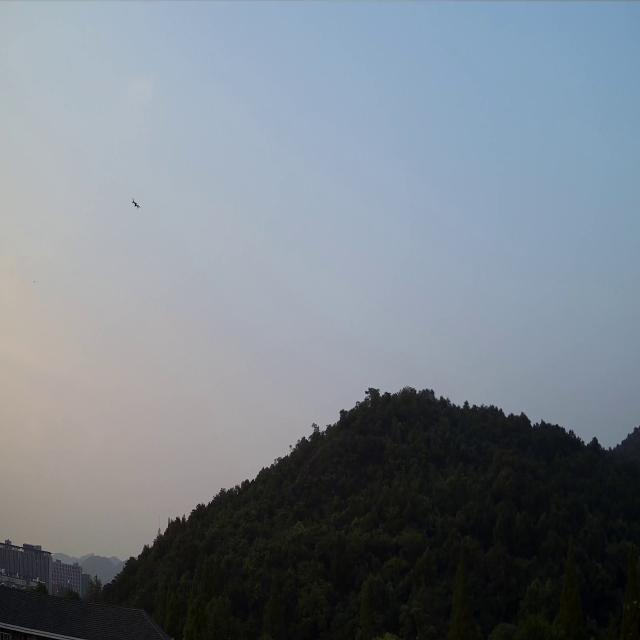UAV: (131, 197, 141, 211)
